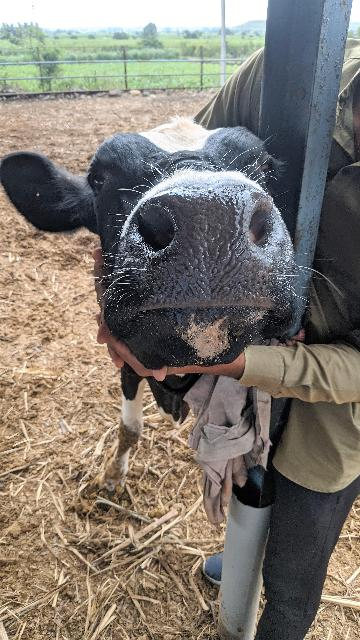Muzzle: (142, 192, 272, 304)
